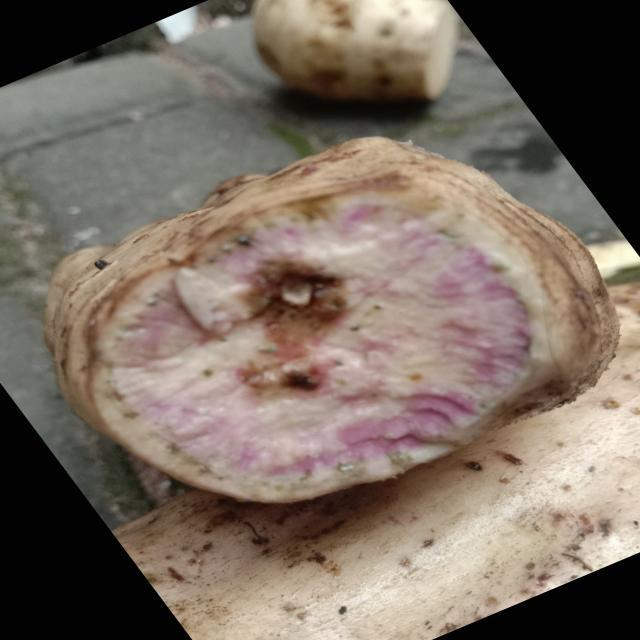Sick Sweet Potato_Tuber Rot: (112, 195, 532, 494)
